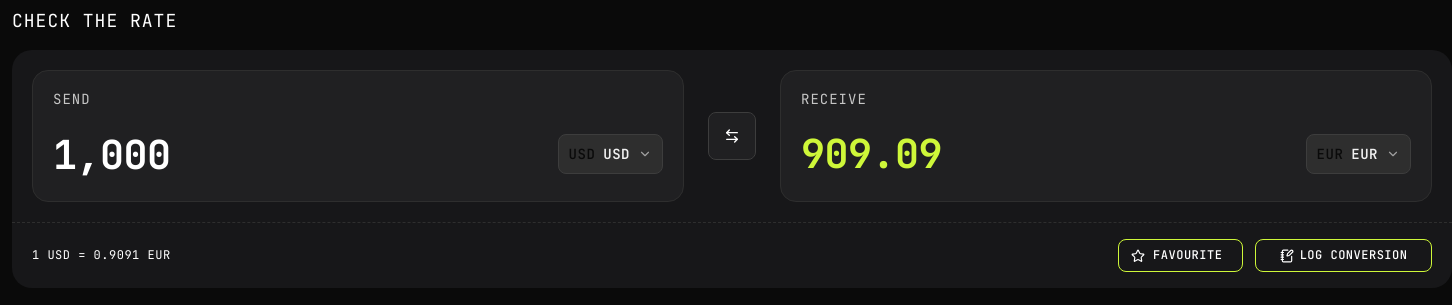
Scenario: RateChecker › amount and swap interactions › updates receive amount and rate label when send amount changes
Expected: the text "909.09" is shown, [801, 127, 942, 180]
Expected: the text "1 USD = 0.9091 EUR" is shown, [32, 248, 171, 263]
Step 1. Replace the text in the field named "Send amount" with "2000" → x=297, y=154, box [53, 128, 542, 181]
Wait 300 ms
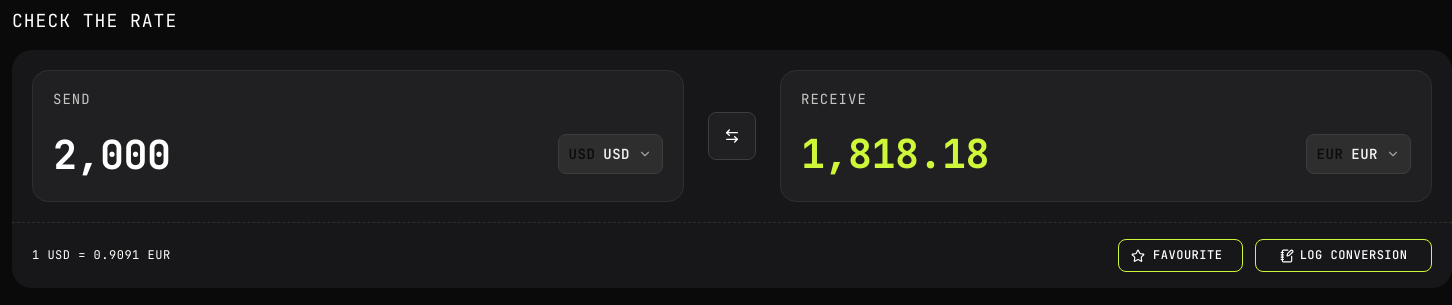
Expected: the text "1 USD = 0.9091 EUR" is shown, [32, 248, 171, 263]
Result: the text "1,818.18" is shown at [801, 127, 989, 180]
